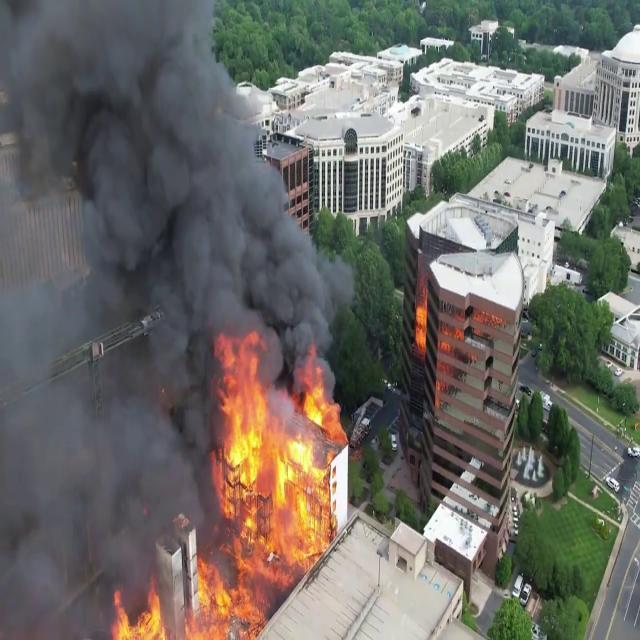Fire: (186, 342, 340, 640), (109, 578, 170, 640), (412, 286, 430, 363)
Smoke: (0, 1, 343, 414)
